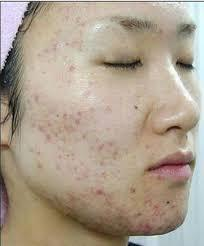fore: (107, 144, 121, 160), (72, 16, 89, 28), (47, 39, 64, 51), (38, 41, 50, 58), (33, 158, 48, 171), (93, 181, 106, 196), (66, 60, 78, 76), (34, 119, 48, 132), (25, 116, 38, 130), (59, 110, 74, 122), (140, 194, 153, 207), (41, 131, 55, 143), (62, 121, 73, 135), (150, 198, 161, 212), (50, 162, 65, 172), (104, 136, 116, 148), (129, 220, 141, 232), (62, 35, 72, 48), (53, 125, 66, 135), (73, 109, 84, 119), (70, 192, 80, 203), (24, 143, 33, 155), (71, 173, 83, 182), (95, 137, 103, 150), (144, 220, 152, 233), (31, 95, 42, 104), (74, 131, 85, 140), (73, 115, 79, 129), (71, 165, 81, 173), (77, 30, 84, 40)
